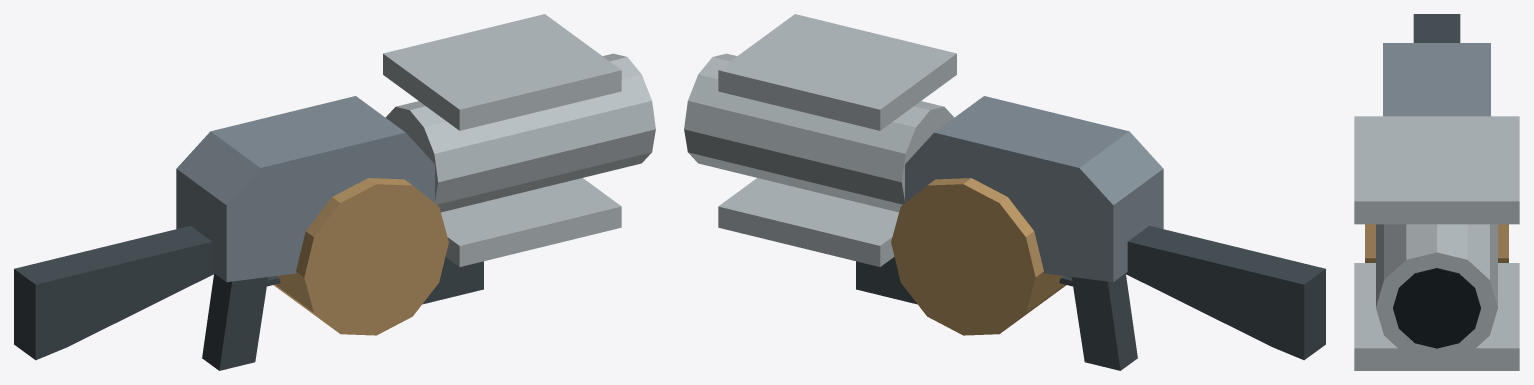
The model's file is w25-shrapnel-mass-static.glb.
3 views of the same model, side by side, from view 1: azimuth 30°, elevation 25°; view 2: azimuth 150°, elevation 25°; view 3: azimuth 270°, elevation 25° (orthographic). The views are drawn at different scales.
Visible parts, largest first — view 1: w25-shrapnel-mass__receiver.001, w25-shrapnel-mass__barrel.001, w25-shrapnel-mass__feed_drum.001, w25-shrapnel-mass__upper_jaw.001, w25-shrapnel-mass__stock.001, w25-shrapnel-mass__lower_jaw.001, w25-shrapnel-mass__grip.001, w25-shrapnel-mass__pump.001; view 2: w25-shrapnel-mass__receiver.001, w25-shrapnel-mass__barrel.001, w25-shrapnel-mass__feed_drum.001, w25-shrapnel-mass__upper_jaw.001, w25-shrapnel-mass__stock.001, w25-shrapnel-mass__lower_jaw.001, w25-shrapnel-mass__grip.001, w25-shrapnel-mass__pump.001; view 3: w25-shrapnel-mass__upper_jaw.001, w25-shrapnel-mass__barrel.001, w25-shrapnel-mass__receiver.001, w25-shrapnel-mass__lower_jaw.001, w25-shrapnel-mass__barrel_bore.001, w25-shrapnel-mass__stock.001, w25-shrapnel-mass__feed_drum.001.
Boxes of the visible parts, x1,y1,x2,y2 form: w25-shrapnel-mass__receiver.001: (176, 96, 434, 282); w25-shrapnel-mass__barrel.001: (385, 53, 655, 212); w25-shrapnel-mass__feed_drum.001: (273, 178, 448, 335); w25-shrapnel-mass__upper_jaw.001: (383, 14, 621, 130); w25-shrapnel-mass__stock.001: (14, 226, 214, 360); w25-shrapnel-mass__lower_jaw.001: (441, 178, 621, 266); w25-shrapnel-mass__grip.001: (202, 274, 268, 370); w25-shrapnel-mass__pump.001: (422, 257, 483, 304); w25-shrapnel-mass__receiver.001: (905, 96, 1163, 282); w25-shrapnel-mass__barrel.001: (684, 53, 954, 212); w25-shrapnel-mass__feed_drum.001: (891, 178, 1066, 335); w25-shrapnel-mass__upper_jaw.001: (718, 14, 956, 130); w25-shrapnel-mass__stock.001: (1125, 226, 1325, 360); w25-shrapnel-mass__lower_jaw.001: (718, 178, 898, 266); w25-shrapnel-mass__grip.001: (1071, 274, 1137, 370); w25-shrapnel-mass__pump.001: (856, 257, 917, 304); w25-shrapnel-mass__upper_jaw.001: (1354, 116, 1519, 224); w25-shrapnel-mass__barrel.001: (1376, 224, 1497, 362); w25-shrapnel-mass__receiver.001: (1383, 43, 1490, 116); w25-shrapnel-mass__lower_jaw.001: (1354, 263, 1519, 370); w25-shrapnel-mass__barrel_bore.001: (1393, 268, 1480, 348); w25-shrapnel-mass__stock.001: (1413, 14, 1460, 42); w25-shrapnel-mass__feed_drum.001: (1365, 224, 1508, 262).
Size of the model in its own units: 1.04 by 0.3825 by 0.23.
